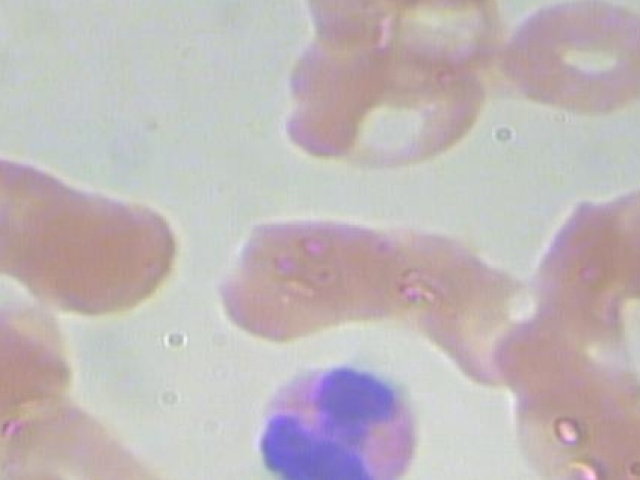RBC: (217, 203, 420, 348), (315, 41, 493, 176), (475, 294, 640, 428), (29, 182, 182, 319), (497, 0, 640, 119), (0, 292, 99, 438), (0, 402, 145, 480), (616, 178, 640, 323)
WBC: (243, 348, 431, 480)
